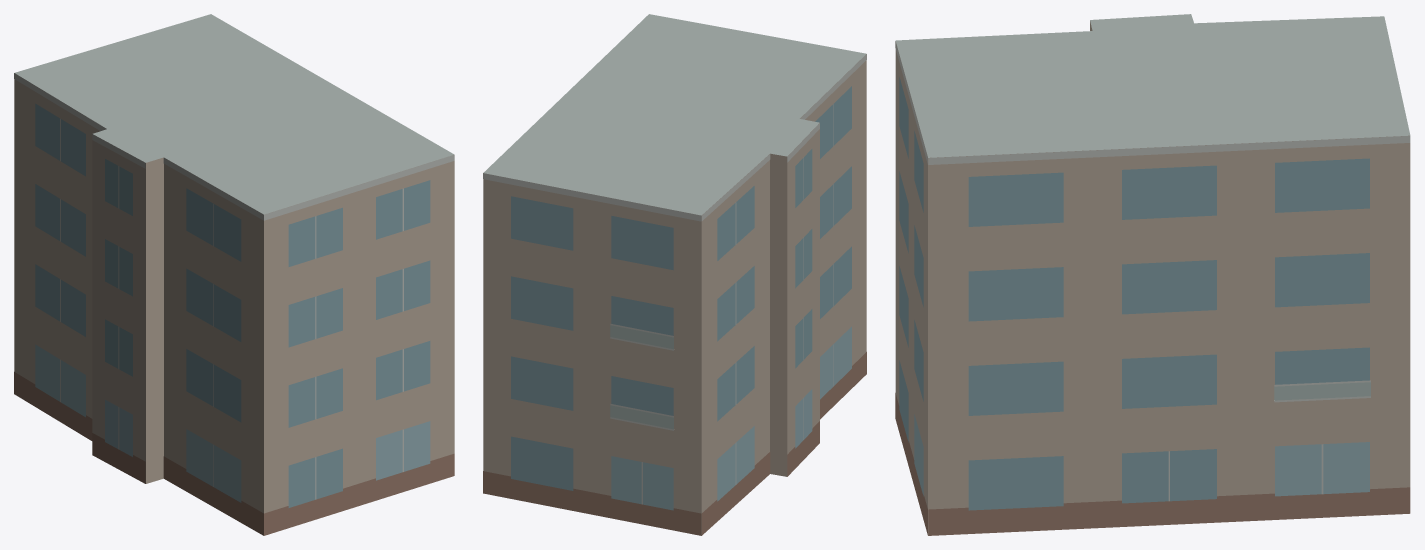
The model's file is survey-upis-32654807.glb.
3 views of the same model, side by side, from view 1: azimuth 30°, elevation 25°; view 2: azimuth 150°, elevation 25°; view 3: azimuth 270°, elevation 25° (orthographic). The views are drawn at different scales.
Parts seen in each view (by area): view 1: survey-upis-32654807.tmp; view 2: survey-upis-32654807.tmp; view 3: survey-upis-32654807.tmp.
Part boxes in pixels (<box>): survey-upis-32654807.tmp: <box>14,14,454,535</box>; survey-upis-32654807.tmp: <box>483,14,866,535</box>; survey-upis-32654807.tmp: <box>895,14,1410,535</box>.
Bounding box in the file's own units: 10.46 × 12.8 × 15.82.
